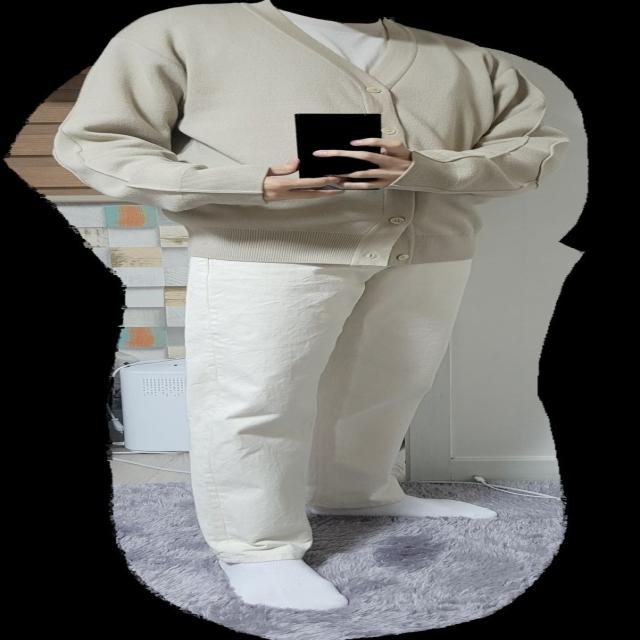cardigan: (51, 2, 574, 268)
cottonpants: (174, 255, 471, 570)
